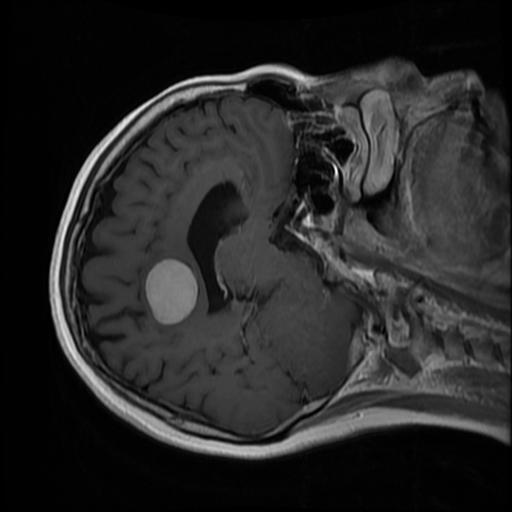meningioma: (145, 260, 198, 325)
